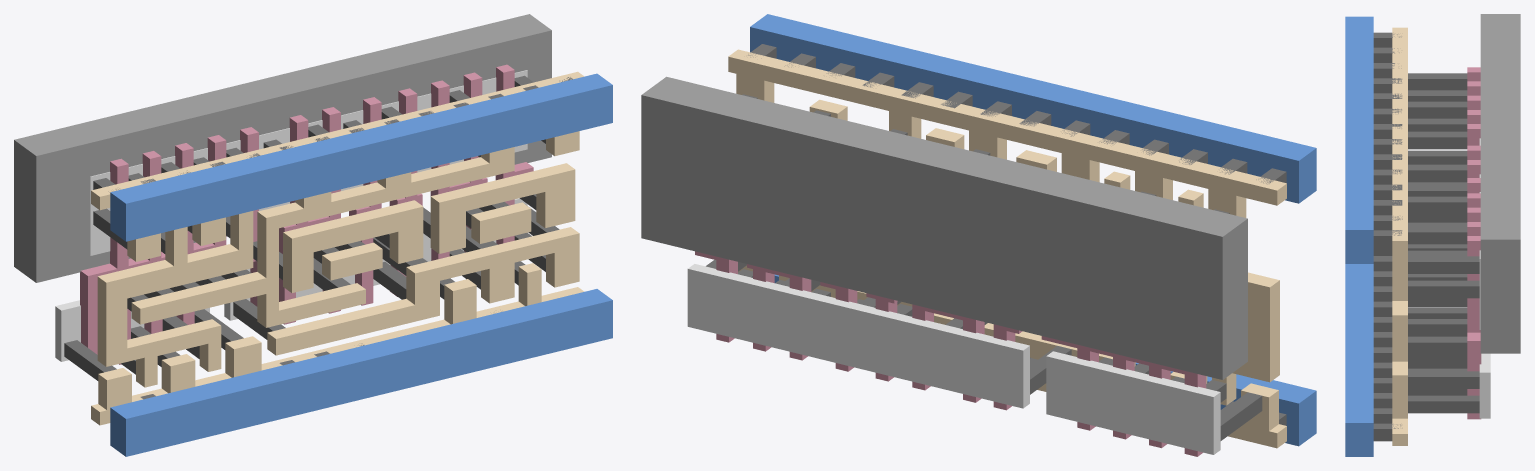
The model's file is sky130_fd_sc_hd__o211a_4.gds.gltf.
3 views of the same model, side by side, from view 1: azimuth 30°, elevation 25°; view 2: azimuth 150°, elevation 25°; view 3: azimuth 270°, elevation 25° (orthographic). The views are drawn at different scales.
Parts seen in each view (by area): view 1: sky130_fd_sc_hd__o211a_4_li1, sky130_fd_sc_hd__o211a_4_met1, sky130_fd_sc_hd__o211a_4_nwell, sky130_fd_sc_hd__o211a_4_poly, sky130_fd_sc_hd__o211a_4_licon, sky130_fd_sc_hd__o211a_4_diff, sky130_fd_sc_hd__o211a_4_mcon; view 2: sky130_fd_sc_hd__o211a_4_nwell, sky130_fd_sc_hd__o211a_4_diff, sky130_fd_sc_hd__o211a_4_li1, sky130_fd_sc_hd__o211a_4_met1, sky130_fd_sc_hd__o211a_4_poly, sky130_fd_sc_hd__o211a_4_mcon, sky130_fd_sc_hd__o211a_4_licon; view 3: sky130_fd_sc_hd__o211a_4_licon, sky130_fd_sc_hd__o211a_4_nwell, sky130_fd_sc_hd__o211a_4_met1, sky130_fd_sc_hd__o211a_4_mcon, sky130_fd_sc_hd__o211a_4_li1, sky130_fd_sc_hd__o211a_4_poly, sky130_fd_sc_hd__o211a_4_diff.
Part boxes in pixels (left/top/right/bottom): sky130_fd_sc_hd__o211a_4_li1: left=91, top=71, right=584, bottom=425; sky130_fd_sc_hd__o211a_4_met1: left=110, top=73, right=612, bottom=456; sky130_fd_sc_hd__o211a_4_nwell: left=14, top=14, right=551, bottom=282; sky130_fd_sc_hd__o211a_4_poly: left=80, top=64, right=533, bottom=364; sky130_fd_sc_hd__o211a_4_licon: left=64, top=75, right=559, bottom=380; sky130_fd_sc_hd__o211a_4_diff: left=55, top=70, right=527, bottom=361; sky130_fd_sc_hd__o211a_4_mcon: left=108, top=77, right=572, bottom=399; sky130_fd_sc_hd__o211a_4_nwell: left=641, top=76, right=1247, bottom=379; sky130_fd_sc_hd__o211a_4_diff: left=687, top=264, right=1220, bottom=454; sky130_fd_sc_hd__o211a_4_li1: left=728, top=49, right=1286, bottom=448; sky130_fd_sc_hd__o211a_4_met1: left=750, top=14, right=1316, bottom=446; sky130_fd_sc_hd__o211a_4_poly: left=695, top=251, right=1206, bottom=456; sky130_fd_sc_hd__o211a_4_mcon: left=748, top=44, right=1286, bottom=425; sky130_fd_sc_hd__o211a_4_licon: left=706, top=94, right=1262, bottom=440; sky130_fd_sc_hd__o211a_4_licon: left=1408, top=73, right=1479, bottom=413; sky130_fd_sc_hd__o211a_4_nwell: left=1480, top=14, right=1520, bottom=353; sky130_fd_sc_hd__o211a_4_met1: left=1345, top=16, right=1373, bottom=456; sky130_fd_sc_hd__o211a_4_mcon: left=1373, top=32, right=1402, bottom=441; sky130_fd_sc_hd__o211a_4_li1: left=1392, top=27, right=1407, bottom=445; sky130_fd_sc_hd__o211a_4_poly: left=1467, top=67, right=1481, bottom=419; sky130_fd_sc_hd__o211a_4_diff: left=1479, top=138, right=1490, bottom=418.
Size of the model in its own units: 6.82 by 3.2 by 2.24.
